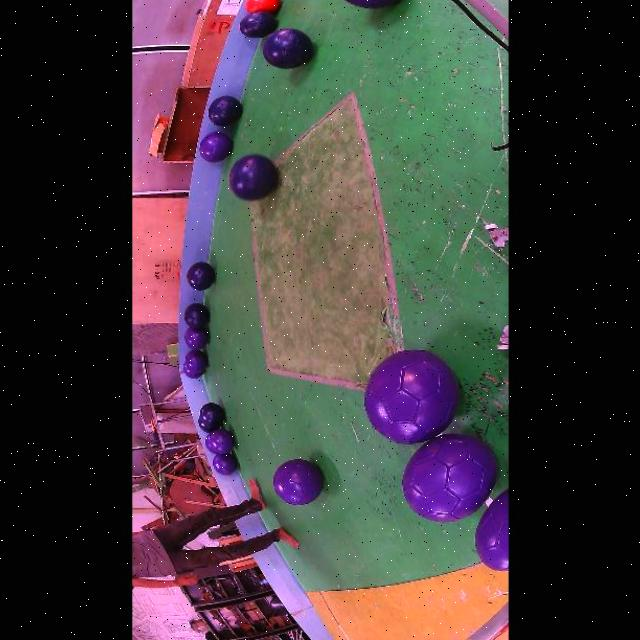B: (227, 155, 275, 201), (261, 28, 311, 69), (206, 96, 240, 126), (237, 11, 274, 37), (185, 262, 213, 291), (183, 303, 207, 329), (198, 403, 222, 424), (197, 416, 218, 433)
P: (363, 350, 457, 444), (401, 433, 495, 522), (473, 490, 507, 571), (271, 460, 321, 505), (198, 132, 231, 163), (207, 428, 232, 454), (183, 350, 206, 373), (183, 328, 207, 350), (211, 453, 235, 475), (342, 0, 396, 9), (181, 363, 202, 379), (203, 433, 213, 453)
R: (244, 0, 278, 14)
